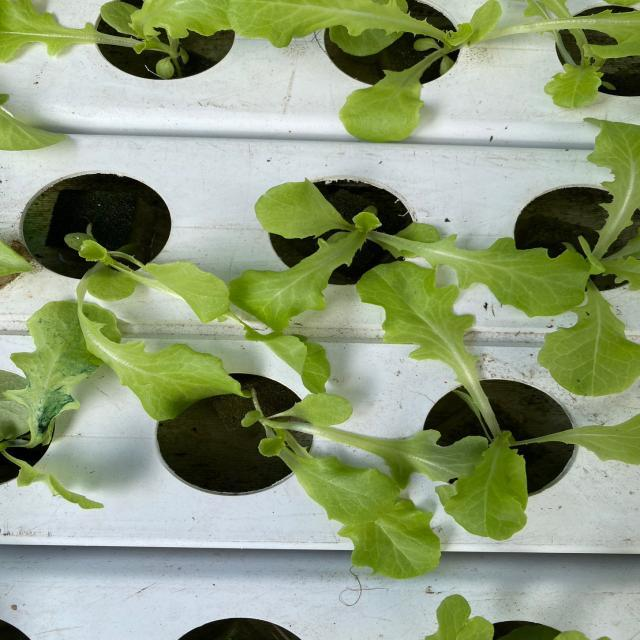Lettuce-Not-Ready-to-Harvest: (229, 0, 640, 141), (230, 180, 590, 329), (358, 261, 526, 539), (245, 392, 488, 578), (78, 239, 241, 419), (539, 121, 640, 395), (0, 301, 101, 508), (0, 0, 231, 78), (545, 30, 639, 107), (529, 415, 640, 463)
